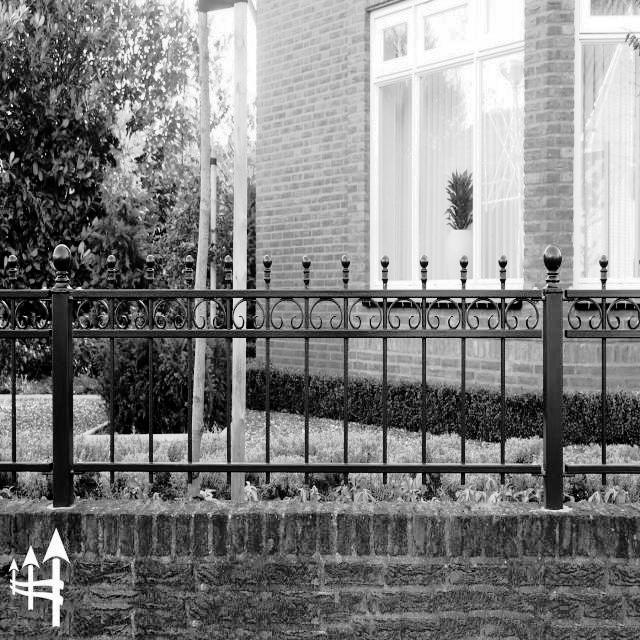fences: (1, 252, 640, 505)
